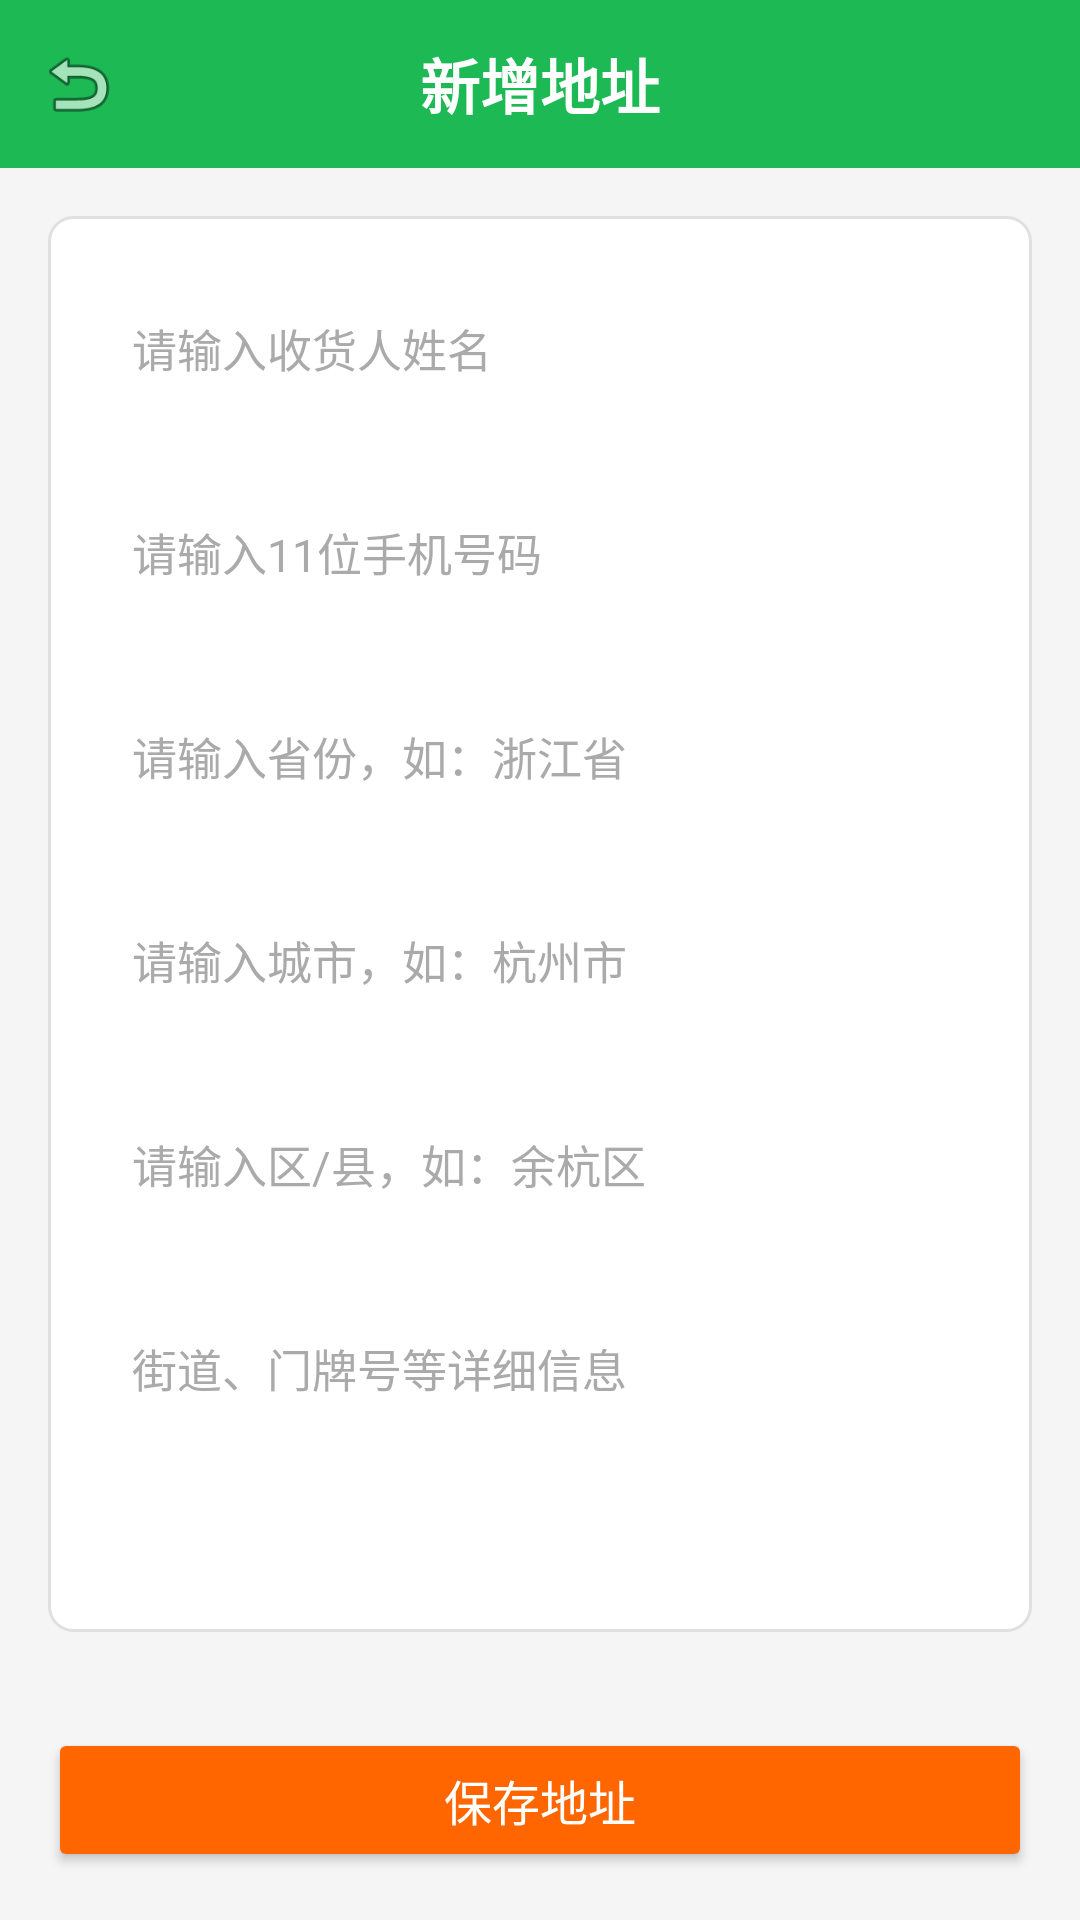

Icon bounding boxes for this 1080x1920 phone screenshot, format (x1, y1, x2, y2):
返回: (49, 57, 109, 112)
